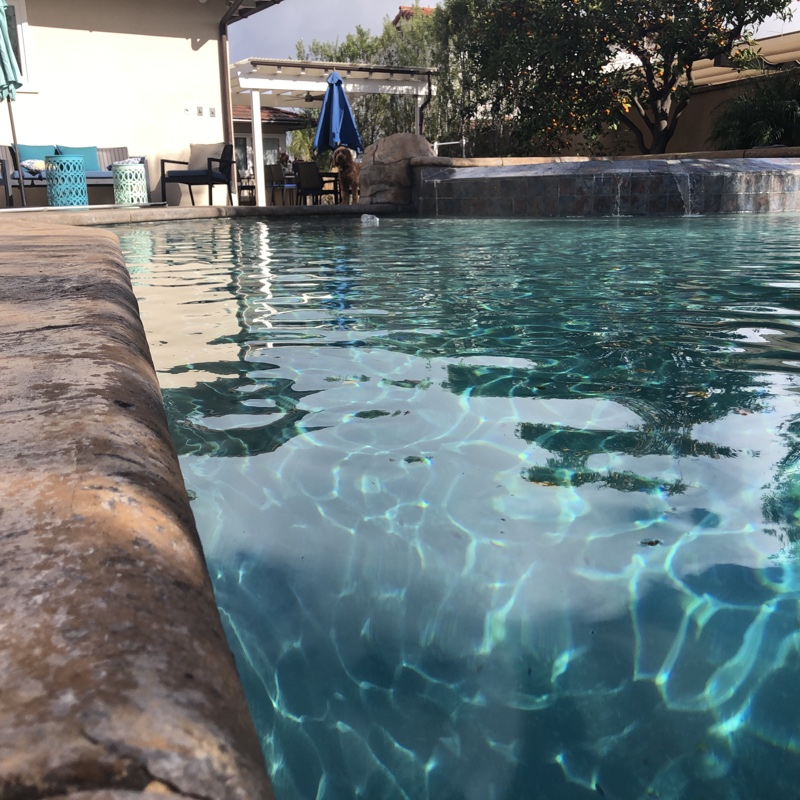Plastic Bottle: (356, 211, 381, 230)
